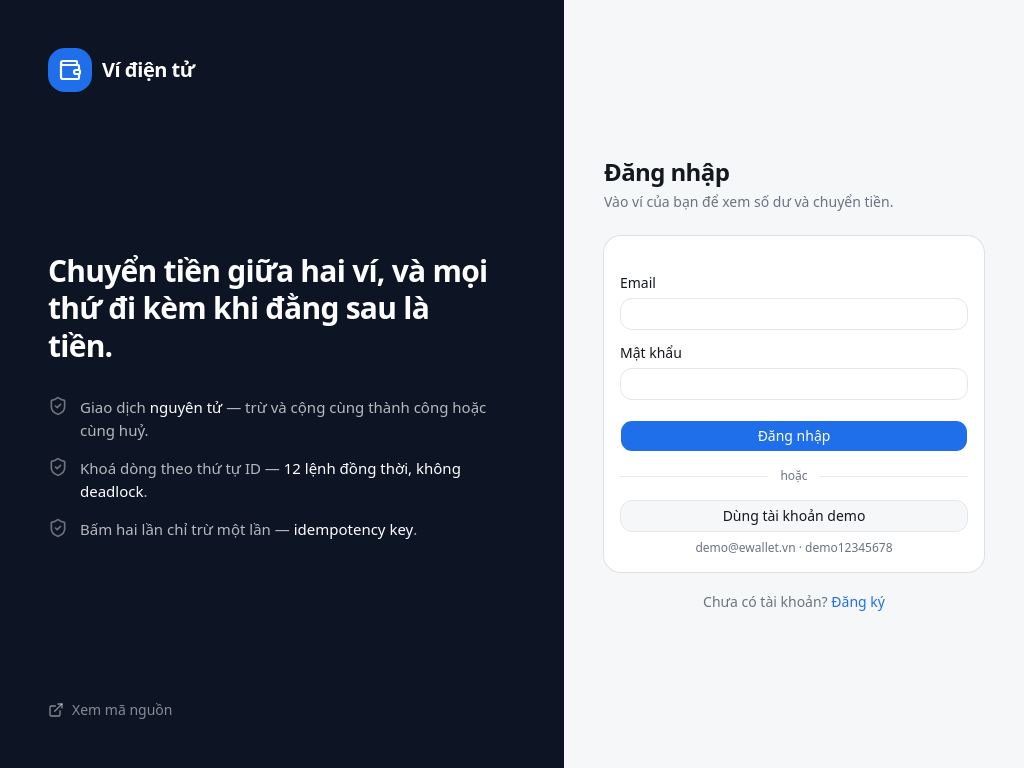
Test: dang nhap › sai mat khau: mot thong bao chung, khong tiet lo email co ton tai hay khong
This screenshot has width=1024, height=768.
Type "anh@vieted.com" into the field labelled "Email" at (794, 314), box [620, 298, 968, 330]
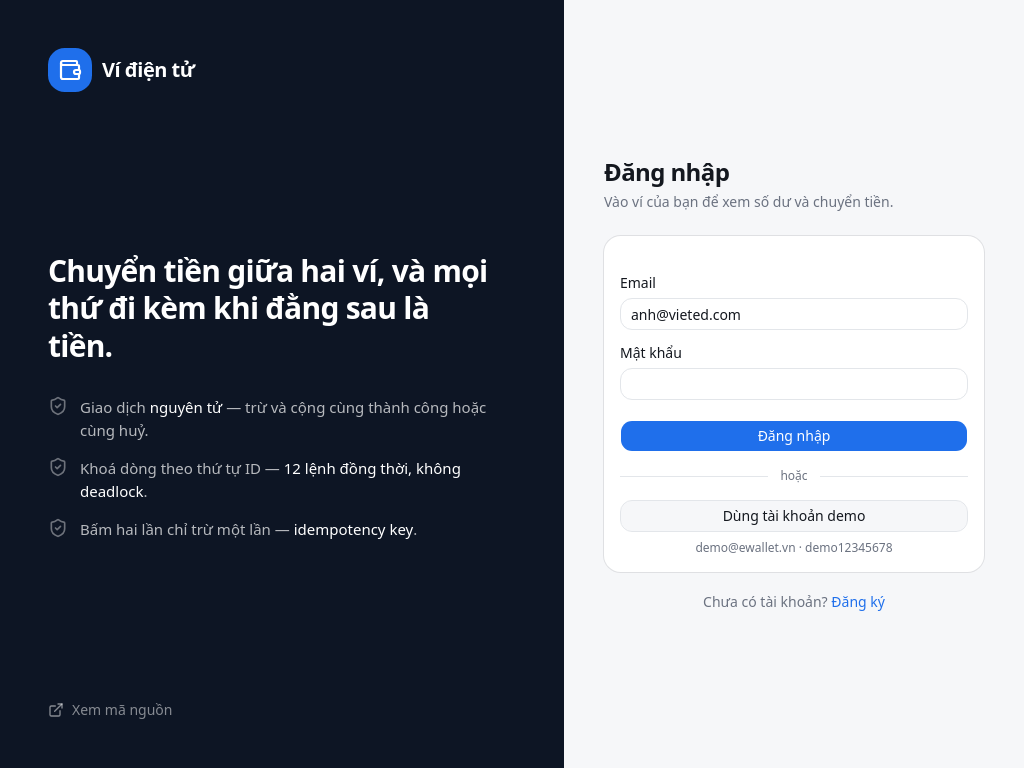
Type "sai-mat-khau" into the password field labelled "Mật khẩu" at (794, 384), box [620, 368, 968, 400]
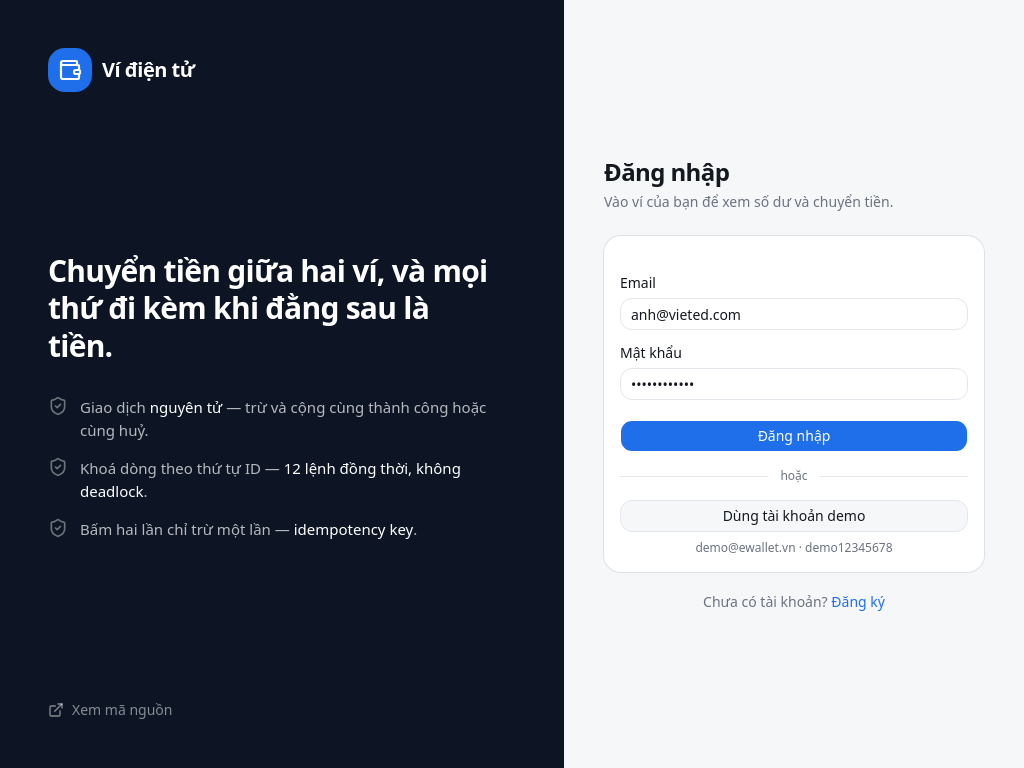
Click the button "Đăng nhập" at (794, 436), box [620, 420, 968, 452]
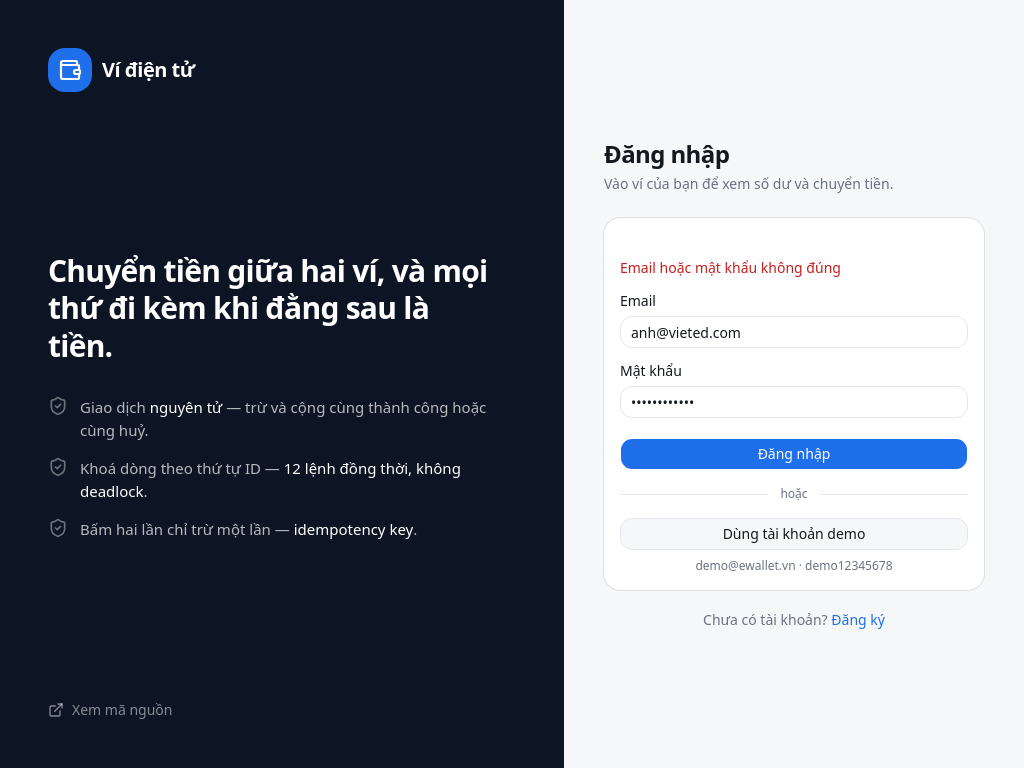
expect the text "Email hoặc mật khẩu không đúng" is shown: met, box [620, 258, 841, 277]
